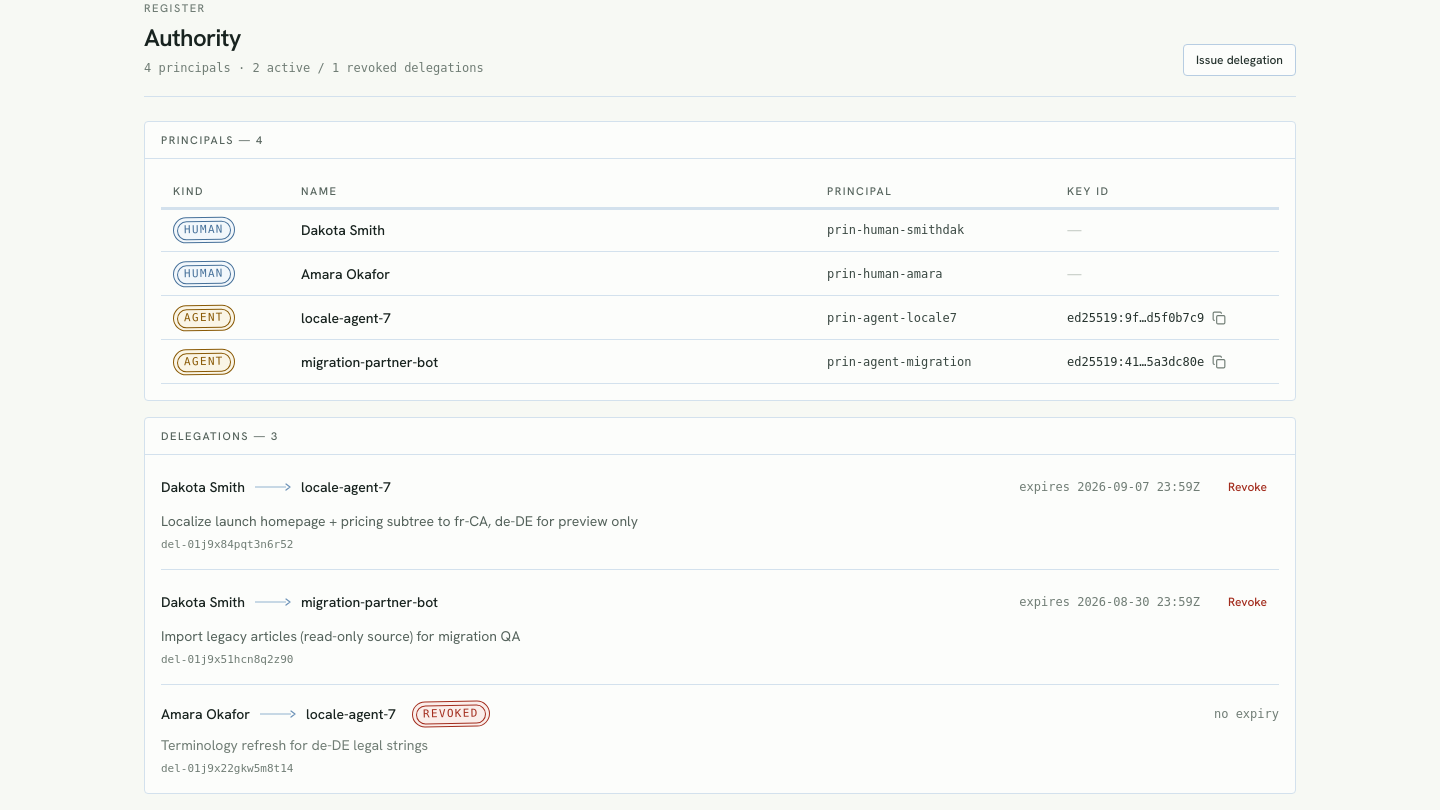
Test: AuthorityPage › revokes an active delegation only after consequential confirmation
Click the button "Revoke" next to "expires 2026-09-07 23:59Z".
click(1248, 487)  # box [1216,471,1279,503]
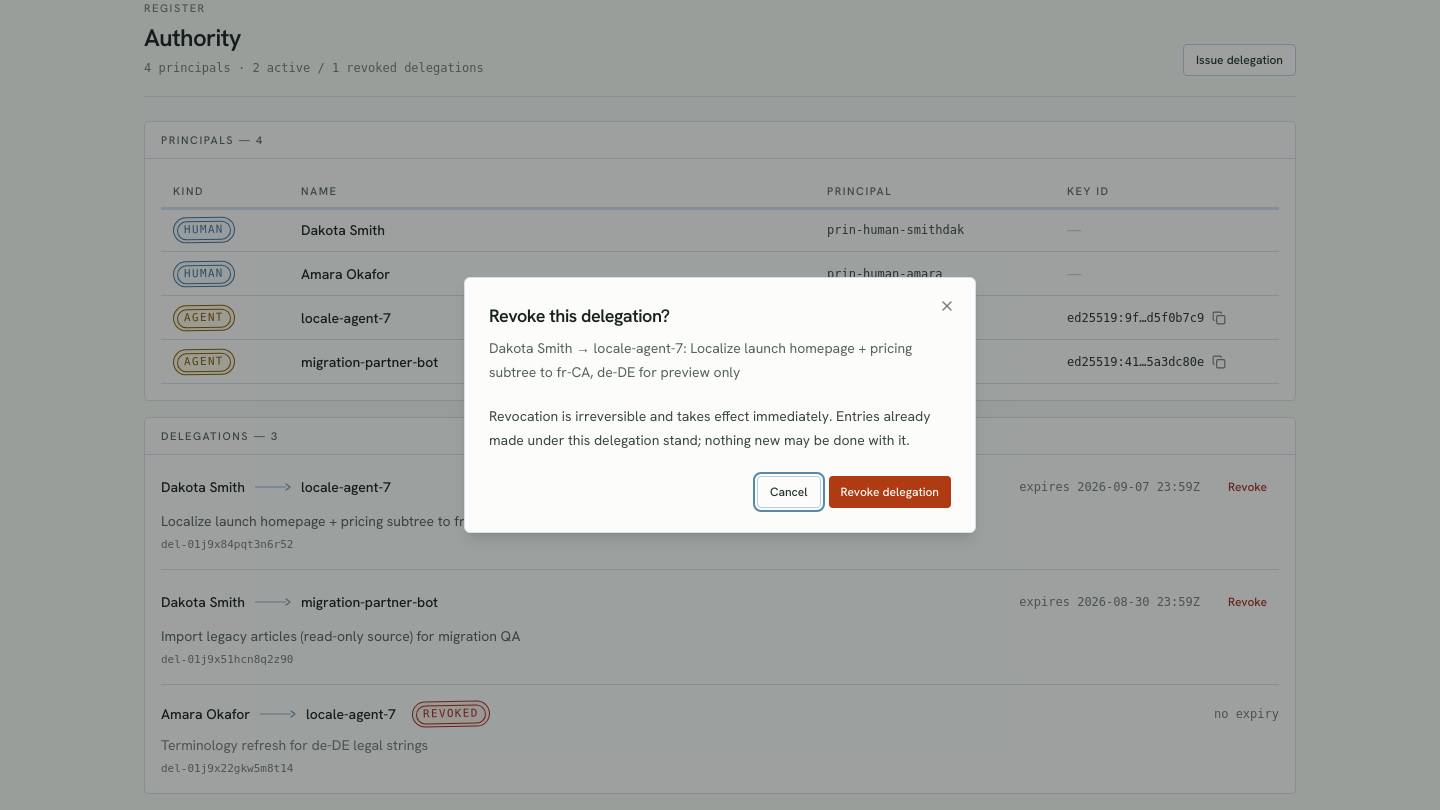
Check: the dialog "Revoke this delegation?" is shown, box [464,277,976,533]
Click the button "Revoke delegation".
click(890, 492)  # box [828,476,951,508]
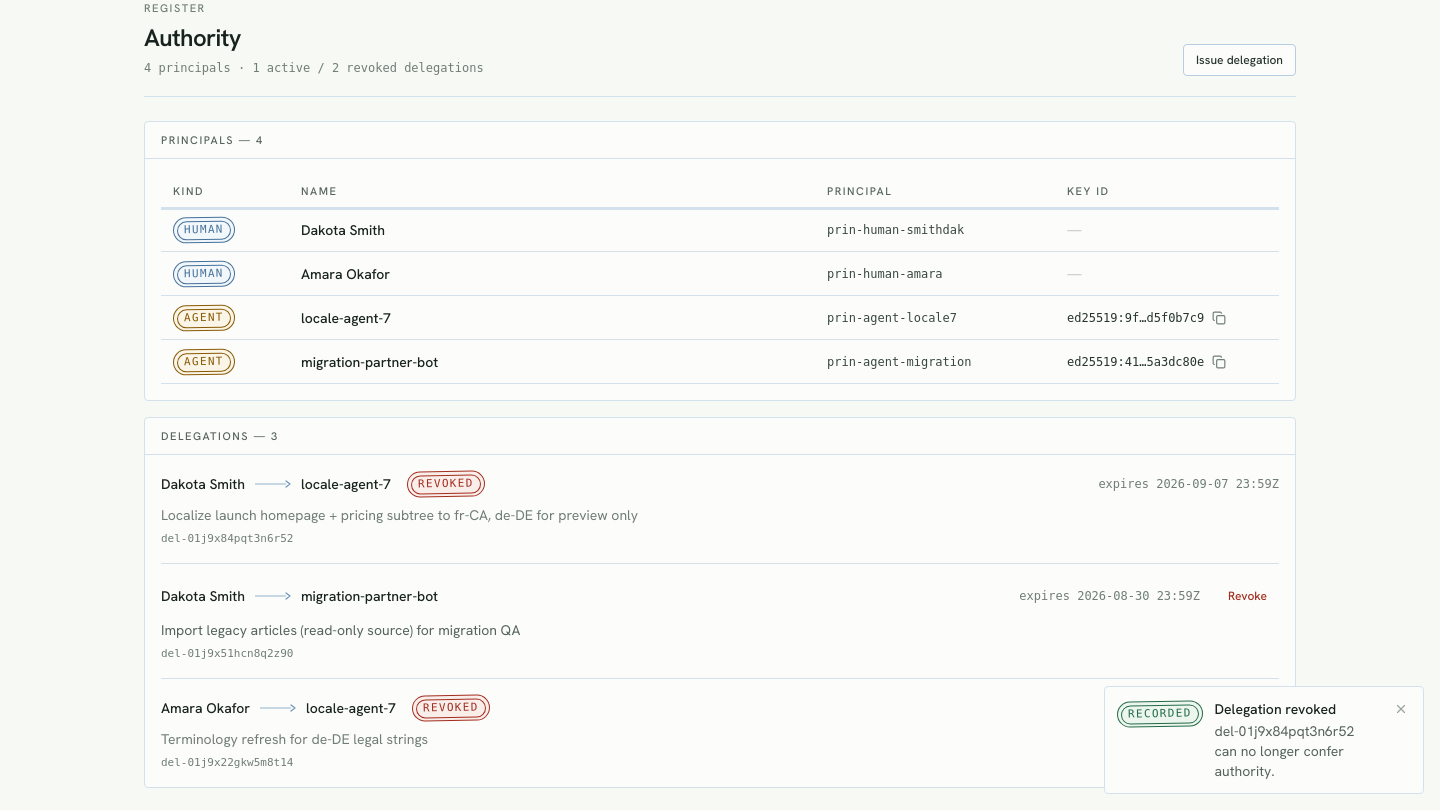
Check: the text "Delegation revoked" is shown, box [1214,700,1336,718]
Check: the text "REVOKED" is shown 2 times, box [407,470,485,498]; [412,694,490,722]
